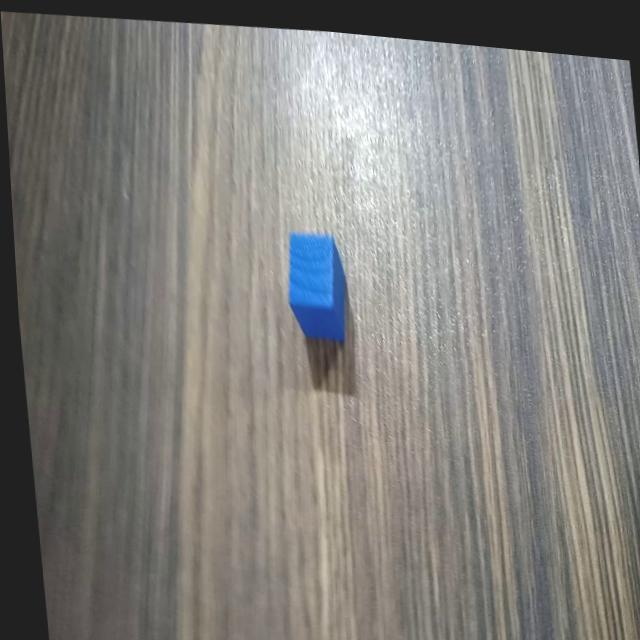cube: (276, 216, 351, 341)
